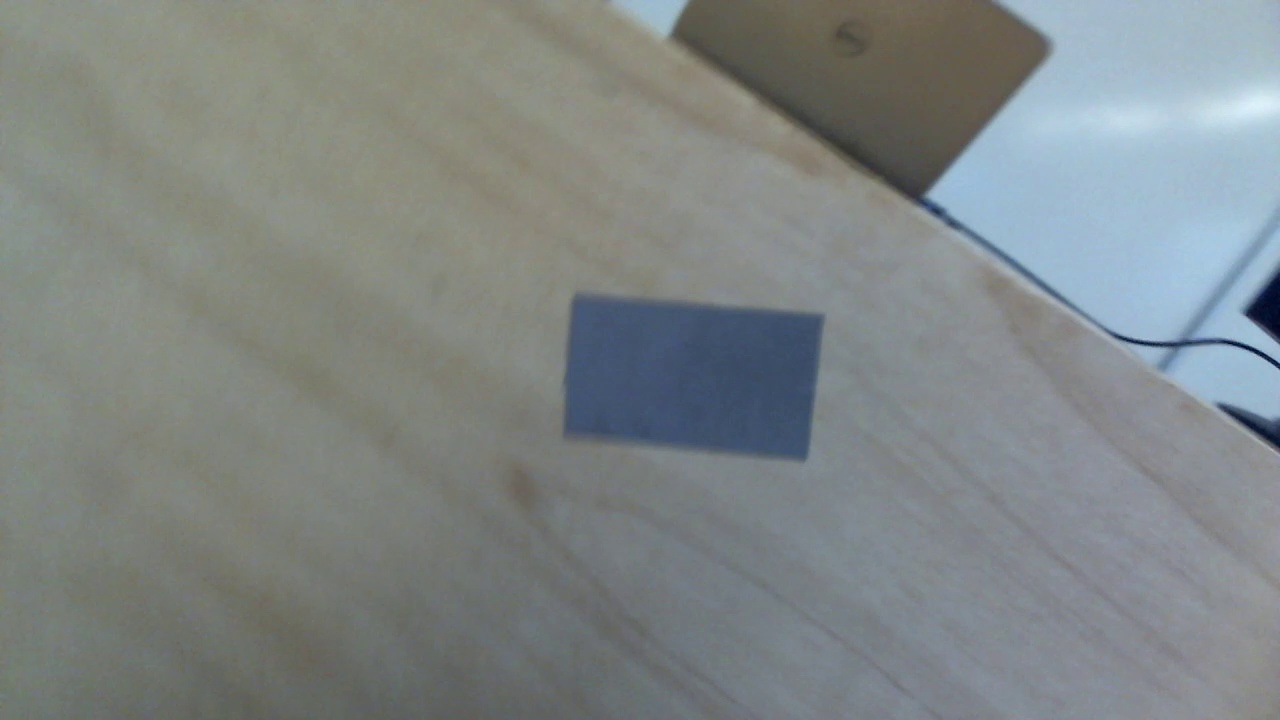Tape: (562, 291, 824, 462)
